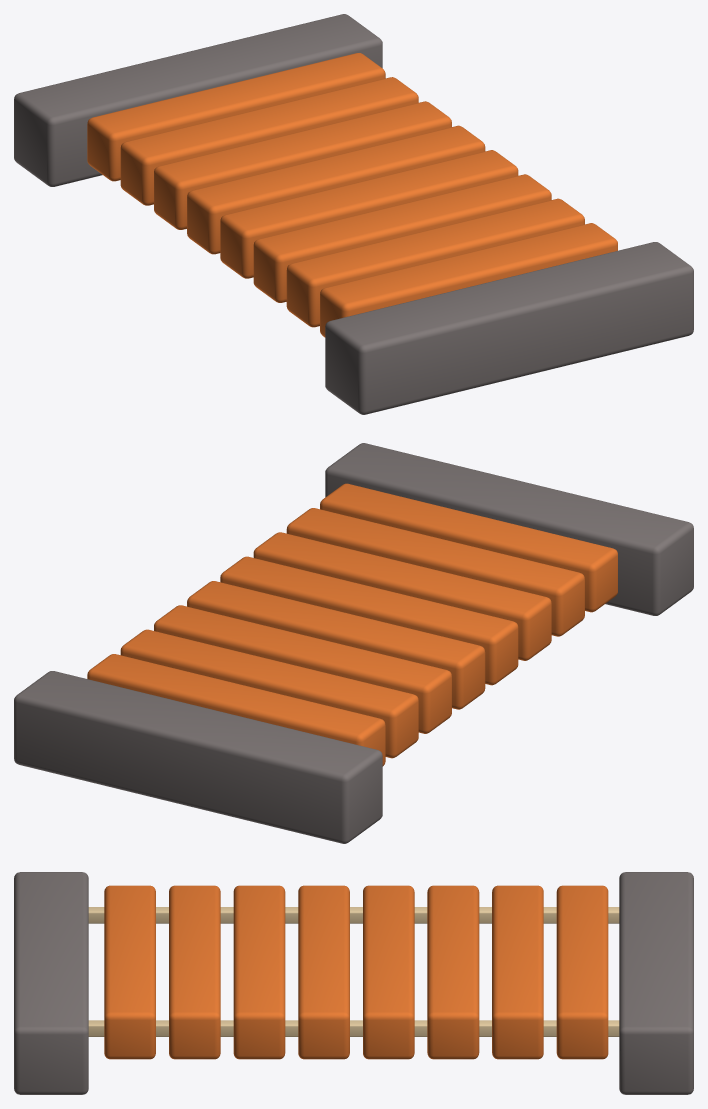
The model's file is Brücke1.fbx.
The picture shows the model from 3 angles, top to bottom: view 1: azimuth 30°, elevation 25°; view 2: azimuth 150°, elevation 25°; view 3: azimuth 270°, elevation 25°; orthographic projection. The views are drawn at different scales.
Visible parts, largest first — view 1: Brücke, Start; view 2: Brücke, Start; view 3: Brücke, Start, Halterung.
Part boxes in pixels (left/top/right/bottom): Brücke: left=87, top=53, right=617, bottom=337; Start: left=14, top=14, right=693, bottom=414; Brücke: left=87, top=483, right=617, bottom=766; Start: left=14, top=443, right=693, bottom=843; Brücke: left=104, top=885, right=608, bottom=1059; Start: left=14, top=872, right=693, bottom=1094; Halterung: left=88, top=907, right=619, bottom=1036.
Bounding box in the file's own units: 571 × 114 × 1032.
